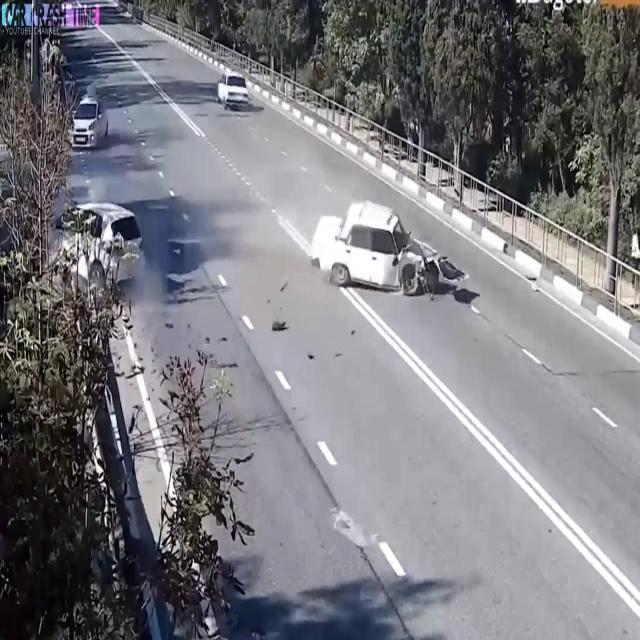accident: (306, 192, 472, 317), (13, 185, 154, 322)
